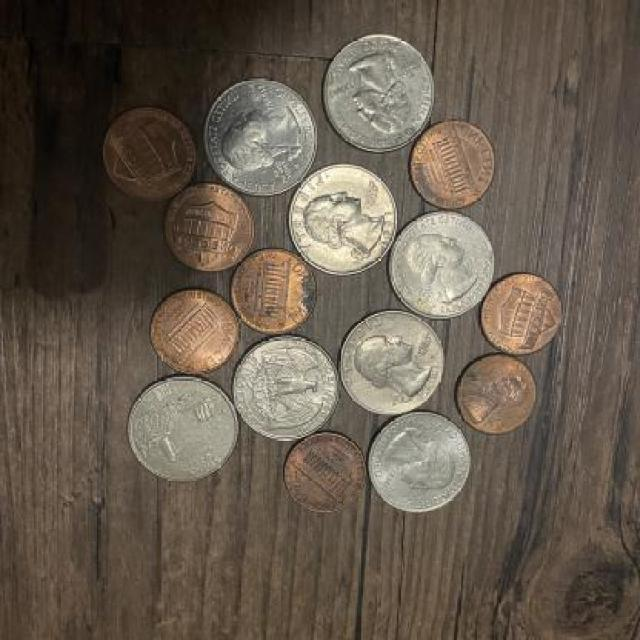Penny: (100, 108, 196, 210), (167, 175, 256, 283), (408, 114, 497, 212), (149, 290, 242, 376), (231, 250, 320, 338), (452, 352, 545, 436), (477, 274, 563, 357), (283, 432, 369, 514)
Quarter: (204, 78, 320, 202), (322, 32, 436, 156), (291, 160, 398, 277), (230, 332, 342, 443), (389, 208, 497, 322), (126, 377, 240, 485), (340, 306, 446, 417), (366, 414, 474, 516)
